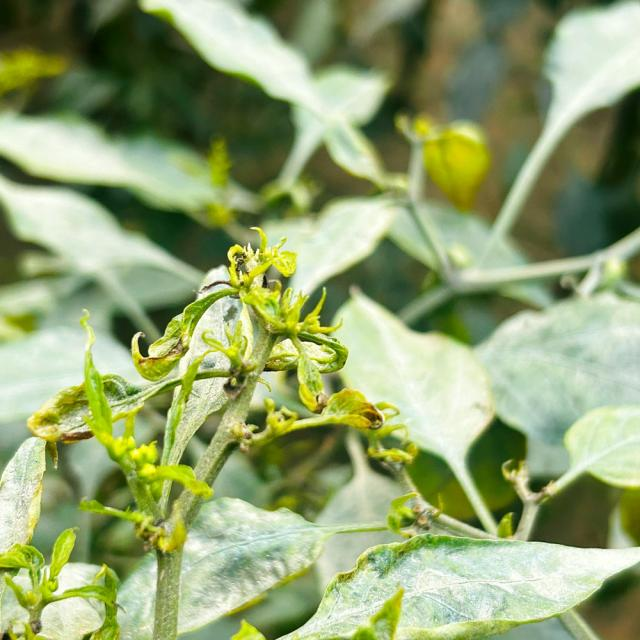Chilli_Leaf_Curl: (1, 1, 638, 638), (12, 225, 404, 638), (333, 284, 500, 536), (276, 532, 638, 639), (472, 289, 639, 492), (112, 494, 328, 638), (0, 526, 123, 639), (418, 118, 492, 212), (0, 434, 47, 565)
